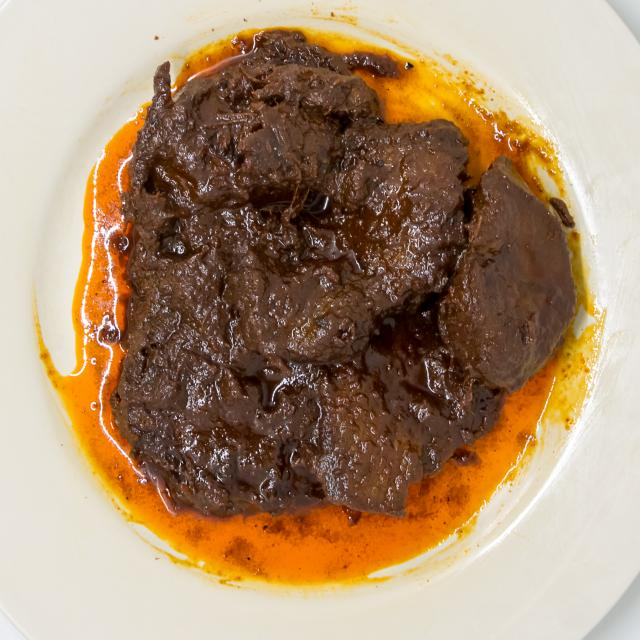Rendang: (110, 25, 584, 544)
